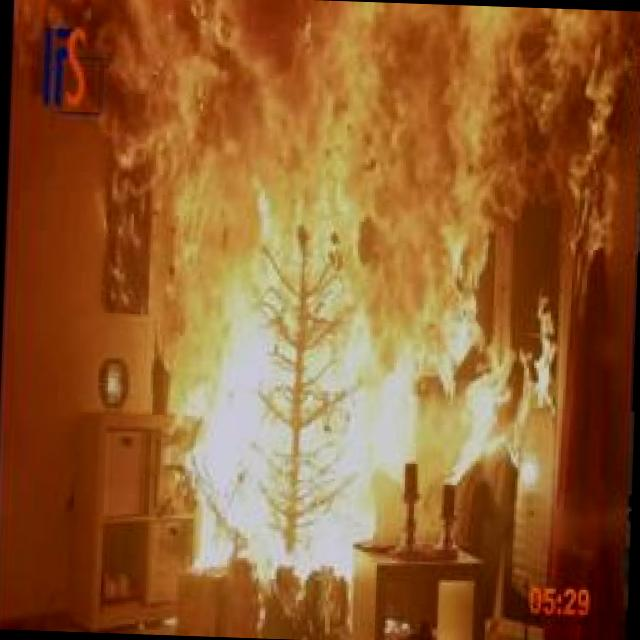fire: (1, 0, 608, 601)
